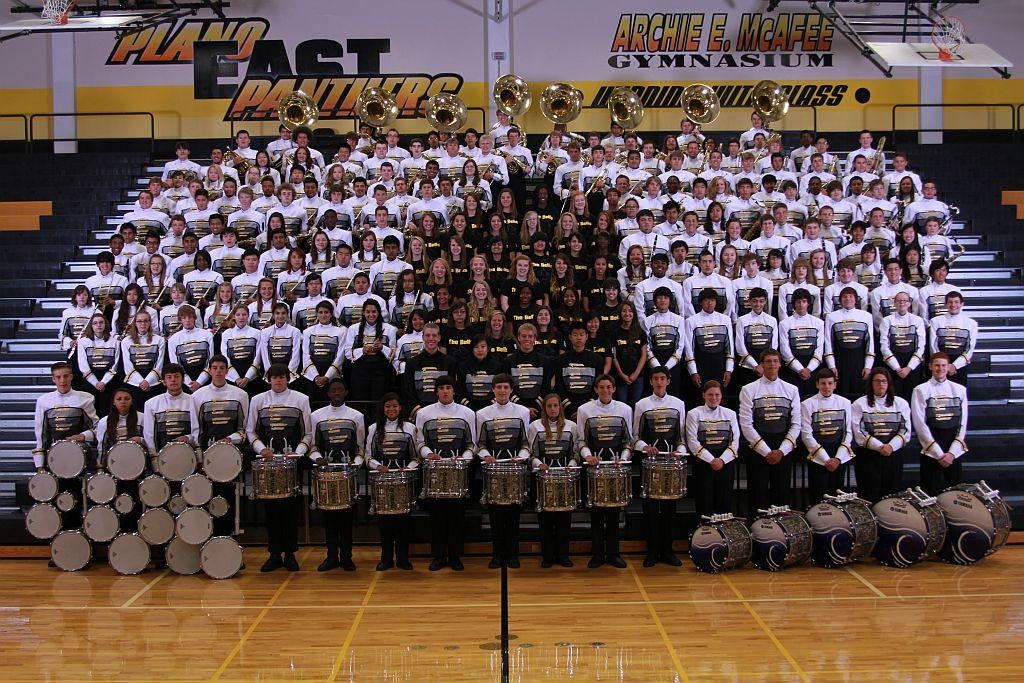human_face: (52, 368, 68, 390), (114, 390, 130, 412), (163, 372, 181, 390), (872, 373, 888, 393), (932, 358, 948, 378), (422, 328, 438, 348), (518, 329, 534, 349), (494, 382, 510, 400), (596, 380, 612, 398), (705, 388, 721, 406), (762, 354, 778, 372), (170, 284, 184, 304), (136, 312, 150, 332), (211, 361, 225, 381), (722, 246, 736, 266), (330, 383, 344, 403), (819, 376, 833, 395), (652, 372, 666, 391), (437, 384, 453, 400), (650, 258, 666, 274), (218, 284, 232, 302), (234, 308, 248, 326), (886, 262, 900, 280), (572, 328, 586, 346), (473, 340, 487, 358), (699, 255, 713, 273), (384, 400, 398, 418), (271, 373, 285, 390), (208, 218, 222, 234), (932, 265, 946, 281), (810, 251, 824, 267), (894, 292, 908, 308), (946, 297, 960, 313), (750, 296, 764, 312), (316, 306, 330, 322), (150, 255, 162, 273), (260, 280, 272, 298), (139, 190, 151, 208), (261, 178, 273, 196), (402, 273, 414, 291), (472, 256, 484, 274), (546, 399, 558, 417), (684, 214, 696, 232), (804, 223, 818, 238), (222, 232, 236, 246), (270, 232, 284, 246), (180, 314, 194, 328), (773, 208, 787, 222), (842, 292, 856, 306), (604, 286, 618, 300), (638, 215, 652, 229), (702, 297, 716, 311), (290, 252, 302, 268), (245, 254, 257, 270), (195, 254, 207, 270), (110, 237, 122, 253), (92, 316, 104, 332), (840, 266, 852, 282), (183, 237, 195, 253), (570, 235, 582, 251), (355, 276, 367, 292), (384, 243, 396, 259), (412, 314, 424, 330), (453, 306, 465, 322), (516, 260, 528, 276), (491, 315, 503, 331), (537, 309, 549, 325), (630, 249, 642, 265), (744, 259, 756, 275), (620, 304, 632, 320), (274, 307, 286, 323), (365, 306, 377, 322), (852, 227, 864, 242), (870, 211, 882, 226), (338, 248, 348, 266), (738, 183, 750, 198), (666, 207, 678, 222), (363, 235, 375, 250), (410, 239, 422, 254), (324, 213, 336, 227), (314, 234, 326, 248), (308, 280, 320, 294), (76, 290, 88, 304), (808, 180, 820, 194), (900, 178, 912, 192), (922, 183, 934, 197), (902, 229, 914, 243), (926, 221, 938, 235), (906, 250, 918, 264), (862, 248, 874, 262), (770, 252, 782, 266), (795, 298, 807, 312), (279, 188, 291, 202), (194, 194, 206, 208), (170, 219, 182, 233), (432, 262, 444, 276), (555, 259, 567, 273), (474, 284, 486, 298), (712, 179, 724, 193), (709, 206, 721, 220), (656, 294, 668, 308), (146, 237, 156, 253), (190, 181, 200, 197), (595, 258, 605, 274), (564, 290, 574, 306), (588, 317, 598, 333), (728, 222, 738, 238), (454, 215, 464, 231), (820, 210, 832, 223), (666, 178, 678, 191), (225, 181, 235, 196), (450, 239, 460, 254), (649, 179, 659, 194), (626, 201, 636, 216), (376, 209, 386, 224), (99, 260, 111, 272), (490, 241, 502, 253), (533, 238, 545, 250), (394, 180, 406, 192), (420, 184, 432, 196), (122, 229, 132, 243), (128, 290, 138, 304), (850, 180, 860, 194), (762, 219, 772, 233), (894, 156, 904, 170), (872, 184, 882, 198), (257, 152, 267, 166), (208, 166, 218, 180), (248, 168, 258, 182), (304, 183, 314, 197), (240, 192, 250, 206), (592, 148, 602, 162), (500, 192, 510, 206), (574, 194, 584, 208), (562, 215, 572, 229), (491, 216, 501, 230), (438, 288, 448, 302), (520, 288, 530, 302), (628, 152, 638, 166), (710, 152, 720, 166), (616, 177, 626, 191), (606, 190, 616, 204), (694, 182, 704, 196), (674, 247, 684, 261), (860, 133, 870, 147), (855, 157, 865, 171), (387, 130, 397, 144), (376, 143, 386, 157), (381, 164, 391, 178), (376, 189, 386, 203), (422, 215, 432, 229), (282, 284, 292, 298), (480, 137, 490, 151), (785, 185, 795, 199), (270, 216, 280, 229), (292, 168, 302, 181), (150, 182, 160, 195), (527, 214, 537, 227), (597, 236, 607, 249), (355, 182, 365, 195), (440, 180, 450, 193), (830, 187, 840, 199), (795, 266, 807, 276), (176, 146, 186, 158), (296, 148, 306, 160), (331, 190, 341, 202), (568, 148, 578, 160), (466, 196, 476, 208), (464, 162, 474, 174), (625, 136, 635, 148), (754, 134, 764, 146), (688, 144, 698, 156), (671, 156, 681, 168), (816, 139, 826, 151), (812, 156, 822, 168), (447, 142, 457, 154), (339, 148, 349, 160), (238, 132, 246, 146), (212, 148, 220, 162), (590, 134, 598, 148), (539, 188, 547, 202), (598, 214, 606, 228), (644, 142, 652, 156), (412, 140, 420, 154), (466, 130, 474, 144), (509, 130, 517, 144), (772, 156, 780, 170), (428, 164, 436, 177), (360, 126, 370, 136), (172, 176, 182, 186), (604, 148, 614, 158), (611, 124, 621, 134), (728, 142, 738, 152), (742, 158, 752, 168), (800, 134, 810, 144), (497, 111, 507, 121), (764, 181, 774, 191), (306, 213, 314, 225), (298, 133, 306, 145), (332, 167, 340, 179), (666, 137, 674, 149), (752, 113, 760, 125), (430, 134, 438, 146), (281, 127, 289, 138), (557, 125, 565, 136), (682, 121, 690, 132), (550, 134, 558, 144), (705, 139, 713, 149), (770, 142, 778, 152), (440, 130, 448, 140), (347, 138, 355, 148)
